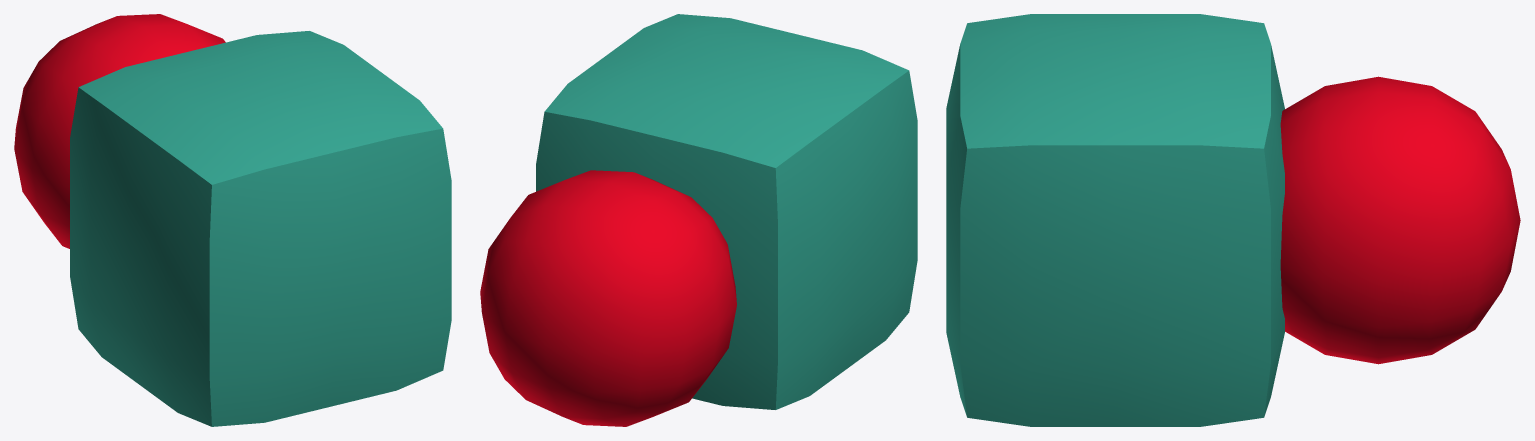
The picture shows the model from 3 angles, left to right: view 1: azimuth 30°, elevation 25°; view 2: azimuth 150°, elevation 25°; view 3: azimuth 270°, elevation 25°; orthographic projection. The views are drawn at different scales.
Parts seen in each view (by area): view 1: Cube; view 2: Cube; view 3: Cube.
Part boxes in pixels (left/top/right/bottom): Cube: left=14, top=14, right=451, bottom=426; Cube: left=480, top=14, right=917, bottom=426; Cube: left=946, top=14, right=1520, bottom=426.
Size of the model in its own units: 2 by 2 by 3.39.
